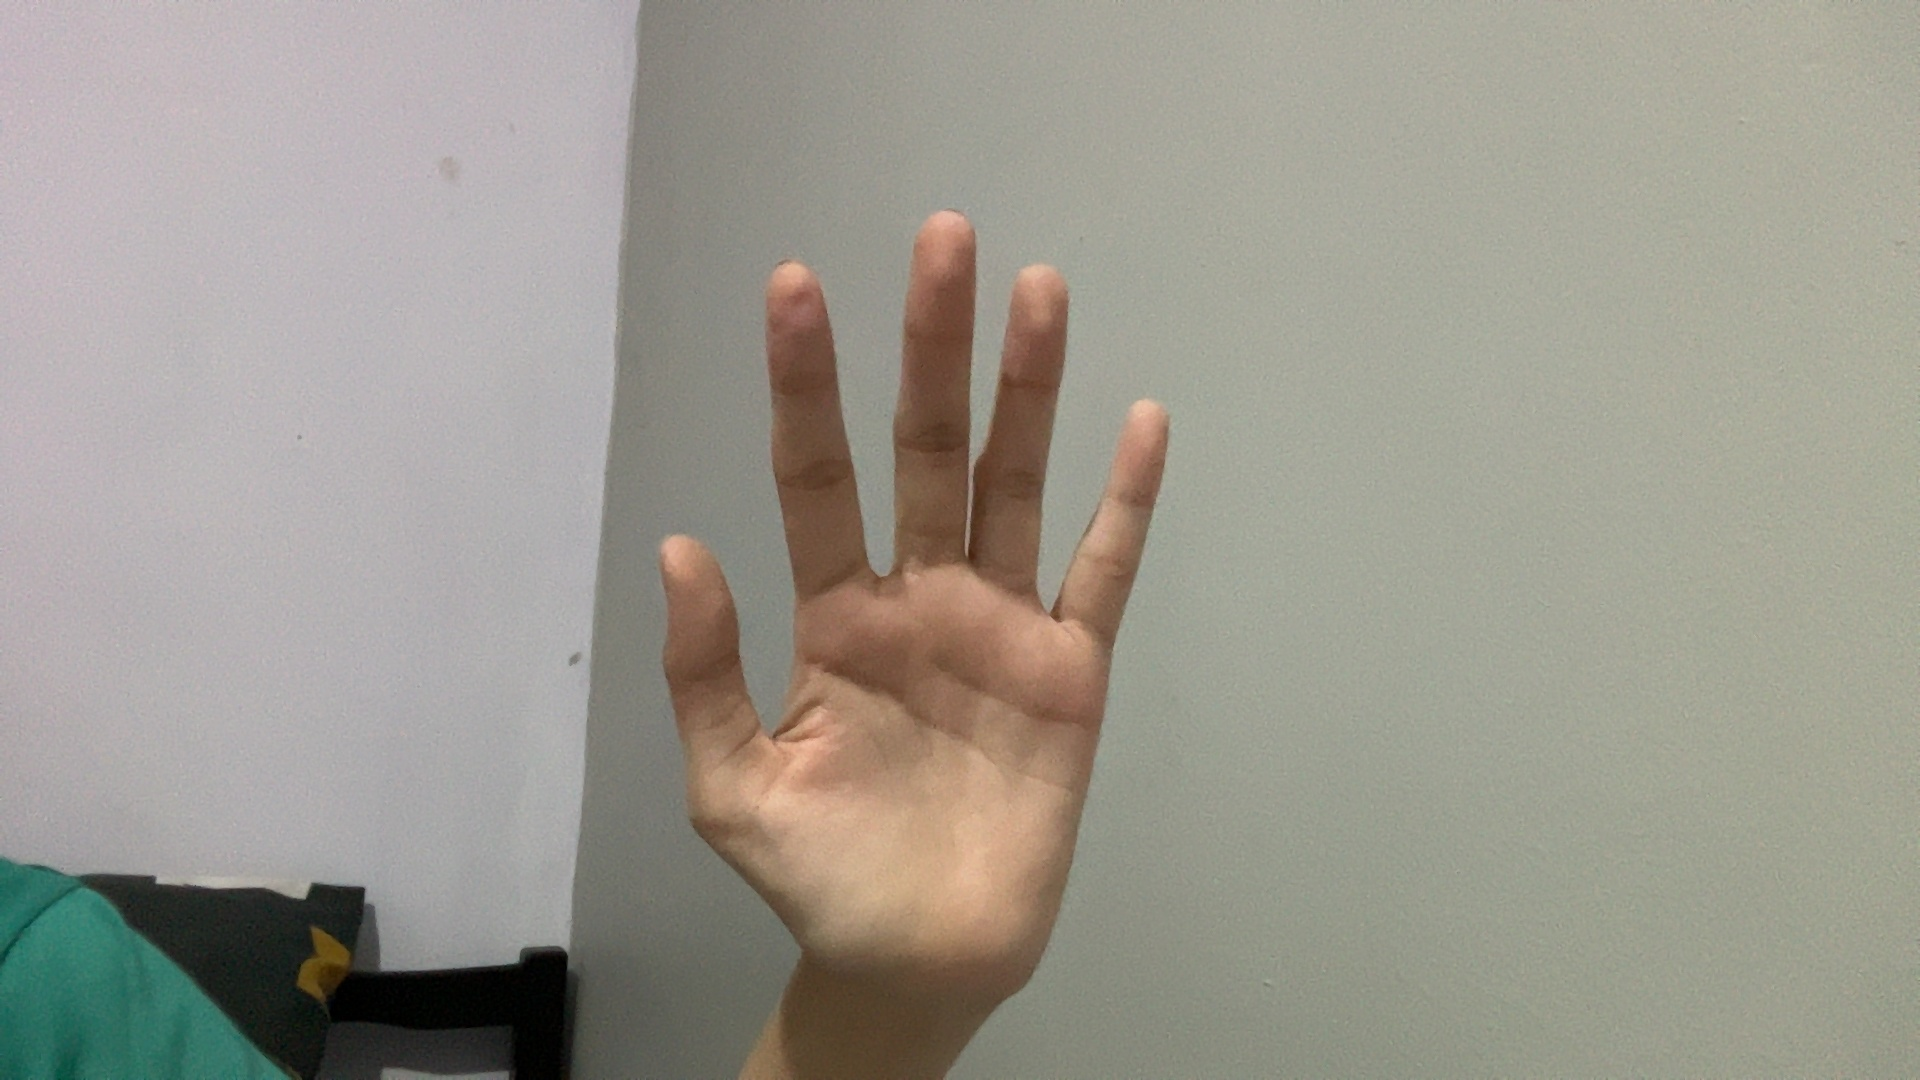Hello: (517, 182, 1325, 1021)
